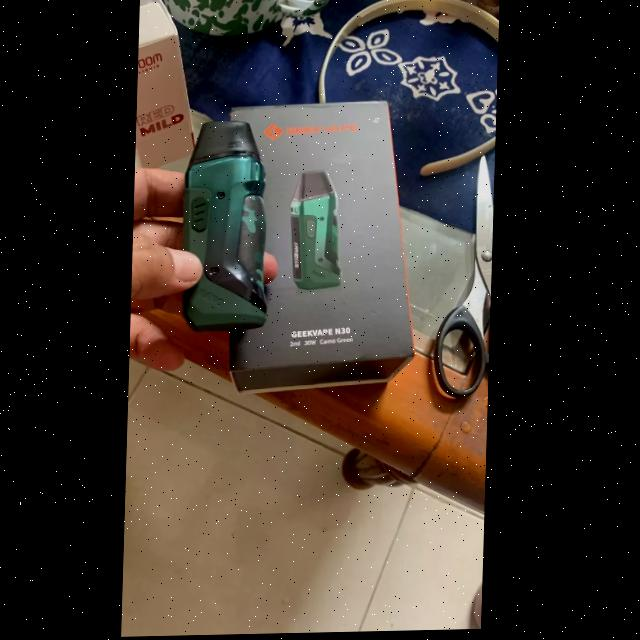vape: (178, 120, 273, 332), (290, 171, 347, 289)
